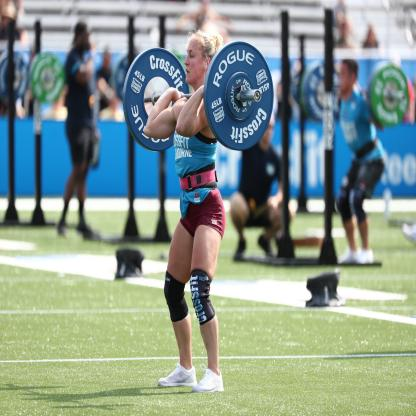barbell: (207, 41, 275, 152), (126, 48, 192, 153)
